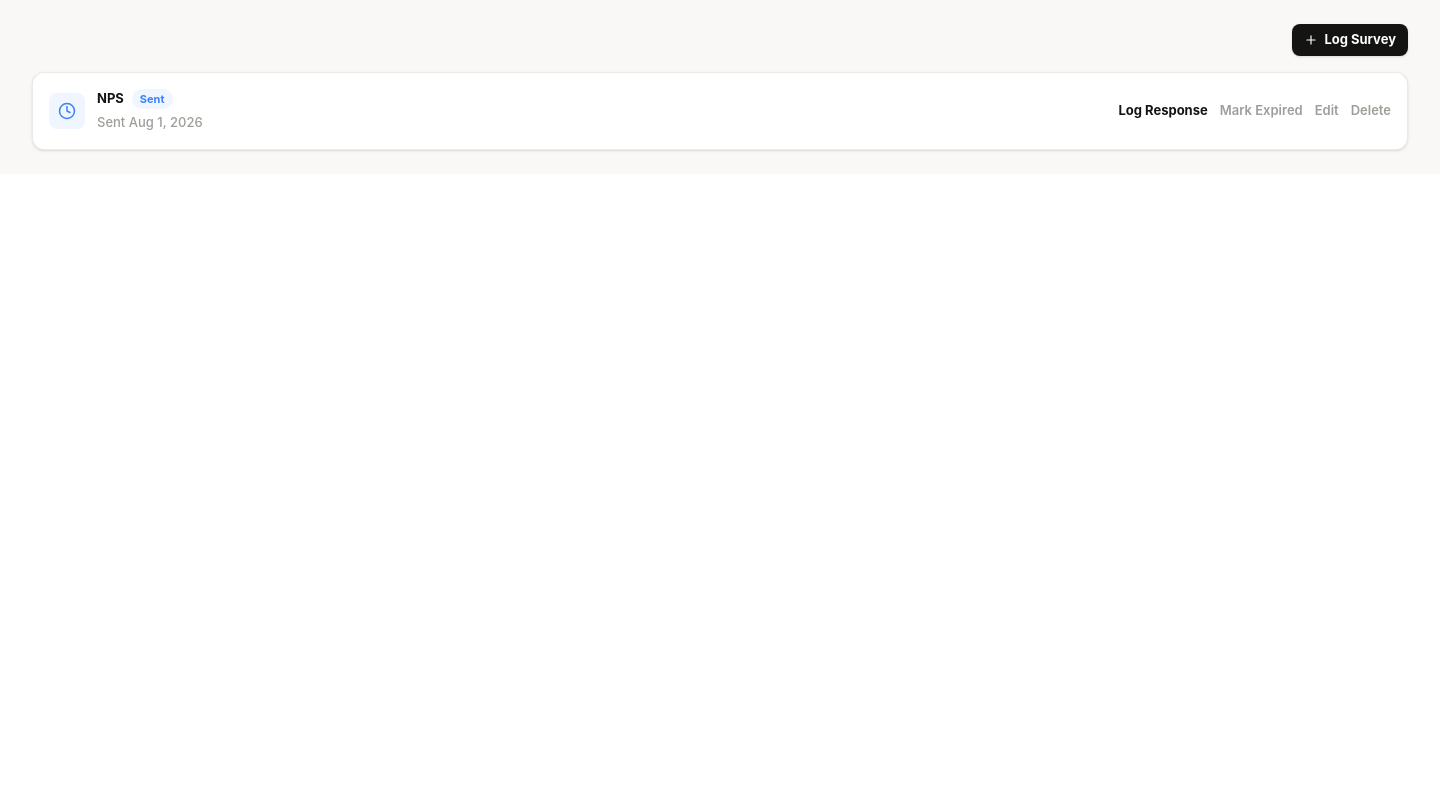
Test: SurveysTab on an organization (moved from the old organization page) › deleting a survey from the Surveys filter's confirm dialog DELETEs it and removes the card
Expected: the text "Sent Aug 1, 2026" is shown, [97, 114, 203, 130]
Click the button "Delete": (1371, 111) [1351, 101, 1391, 120]
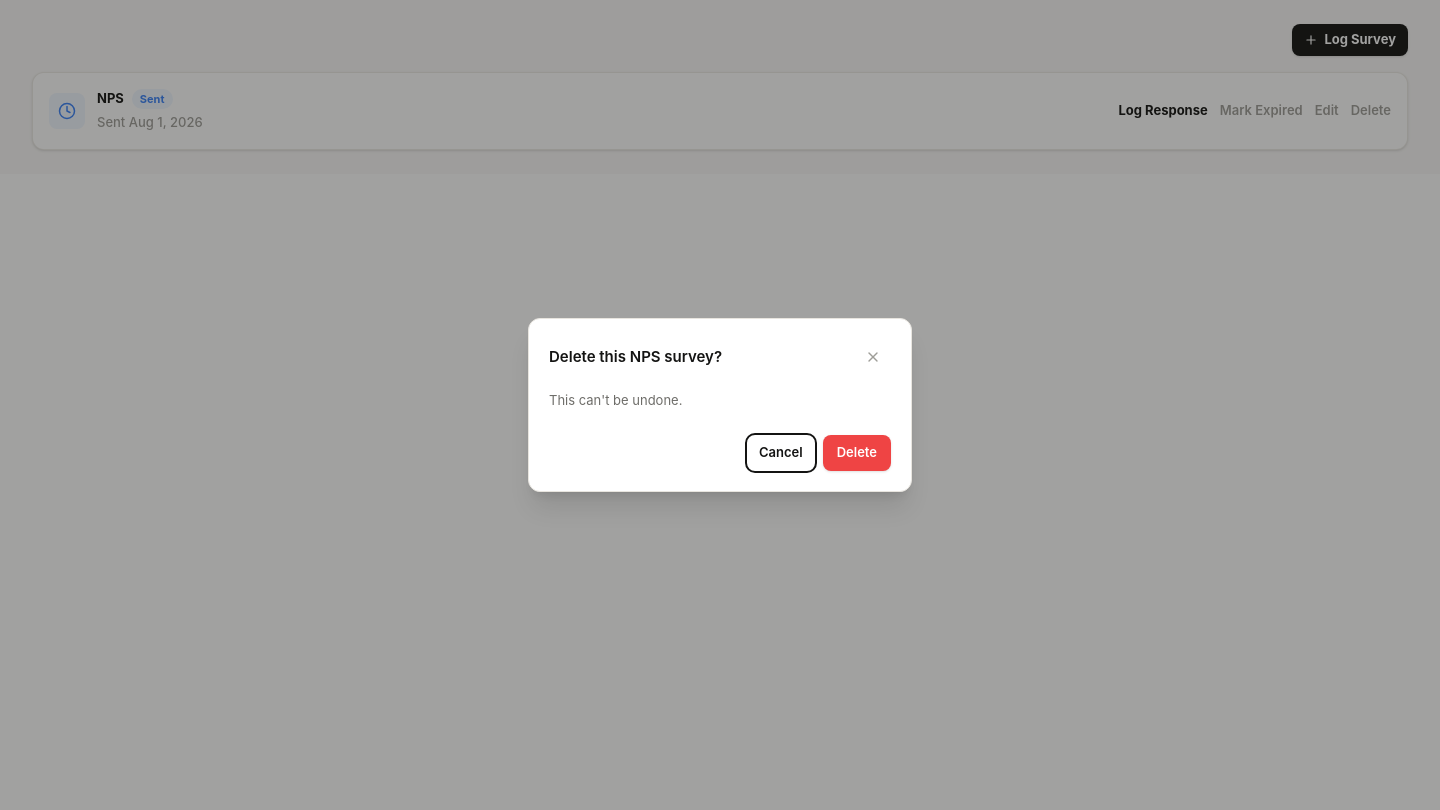
Click the button "Delete": (857, 453) [823, 435, 891, 471]
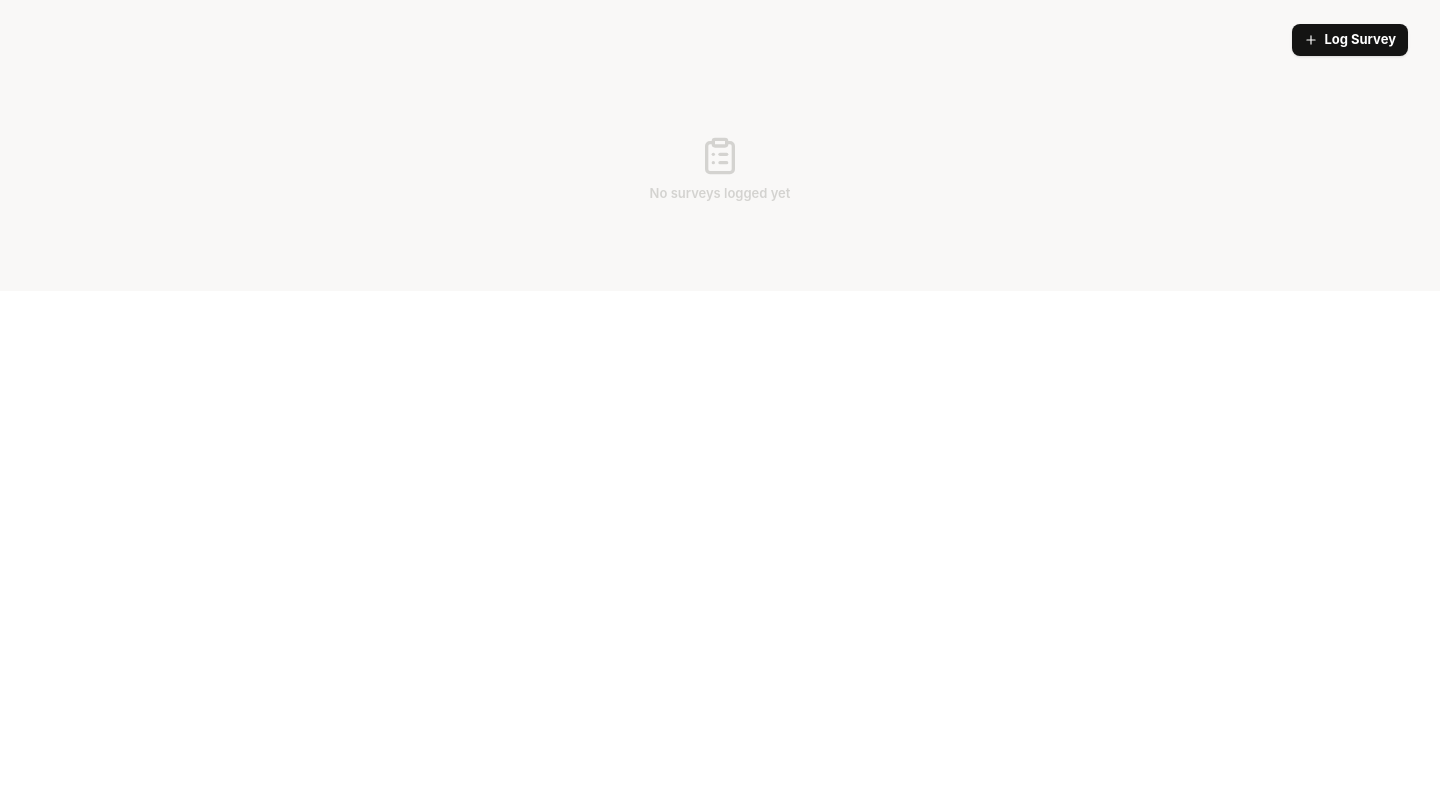
Expected: the text "No surveys logged yet" is shown, [650, 184, 790, 203]
